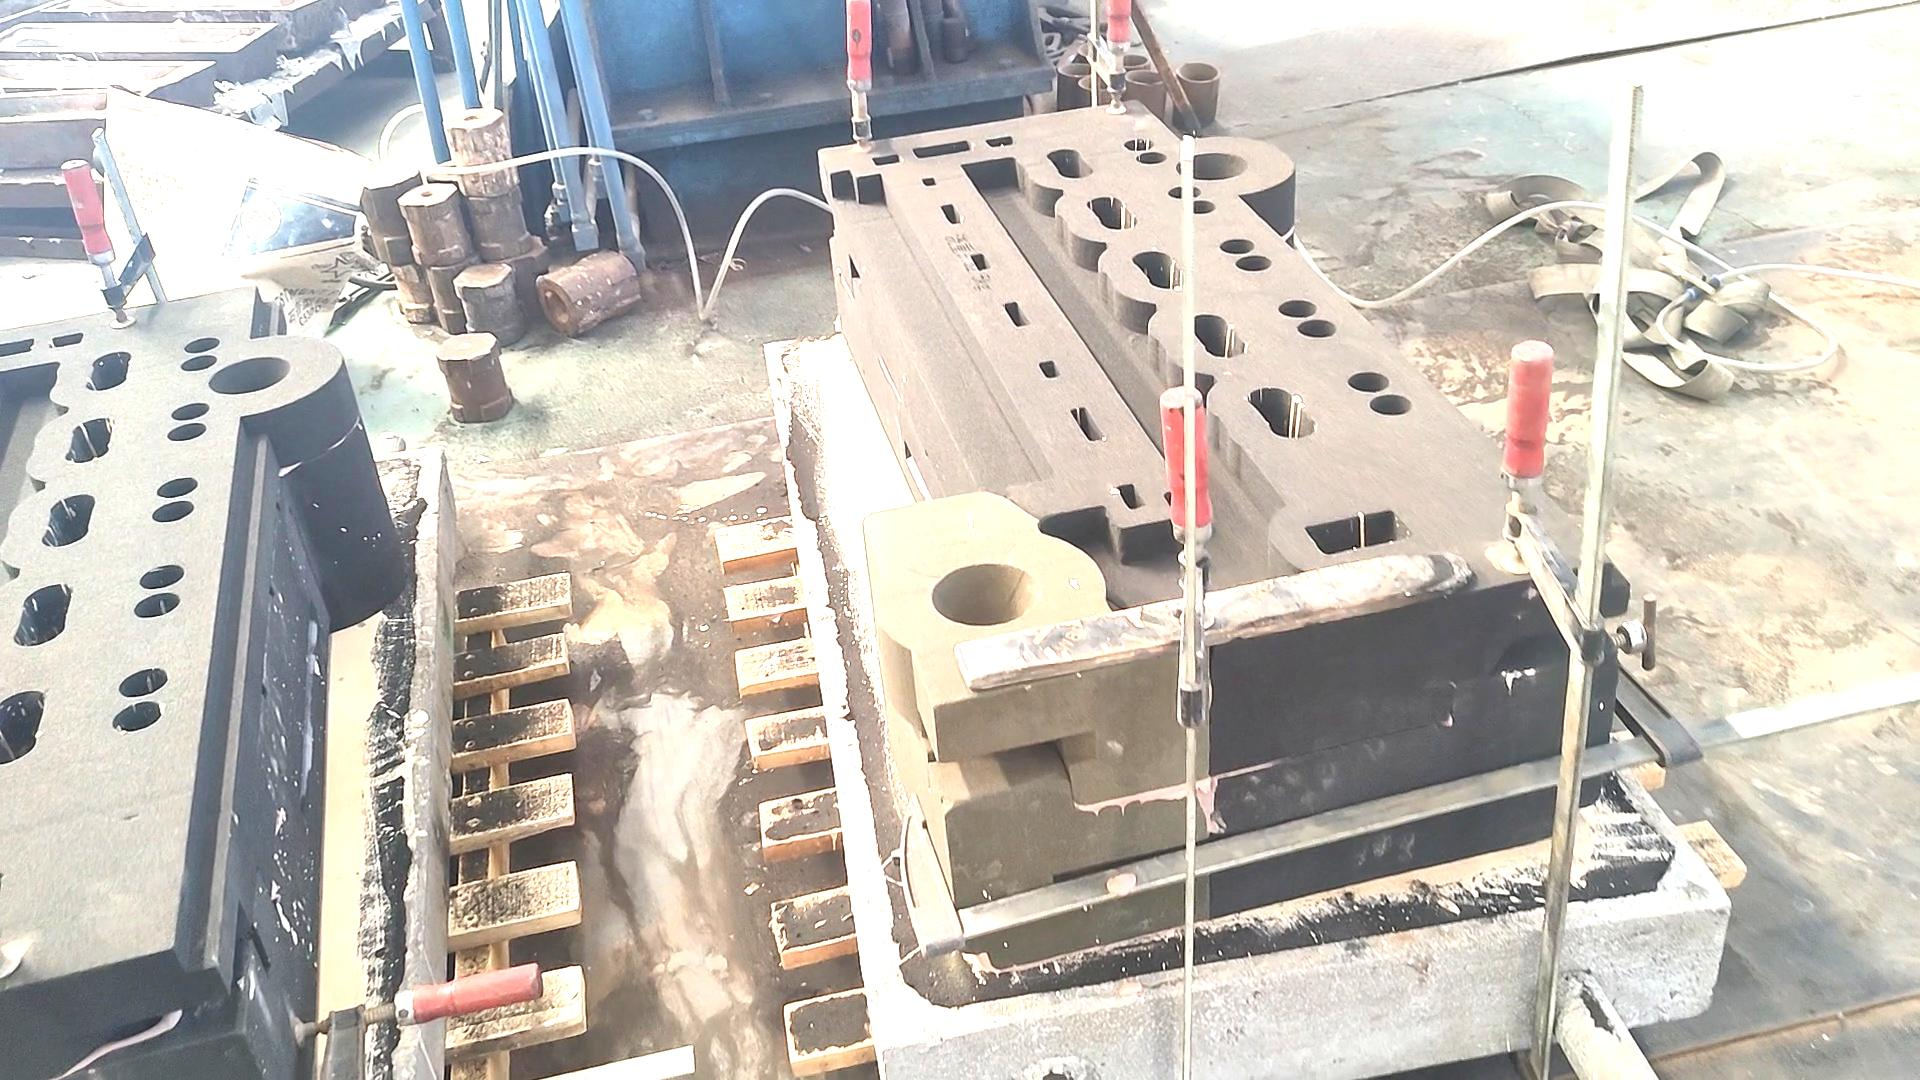pouring hole: (934, 564, 1033, 625), (208, 357, 291, 394), (1176, 152, 1249, 179), (1176, 61, 1220, 82), (1077, 73, 1124, 91), (1124, 69, 1168, 84), (1079, 40, 1114, 59), (1105, 53, 1149, 67), (1058, 63, 1098, 76)
